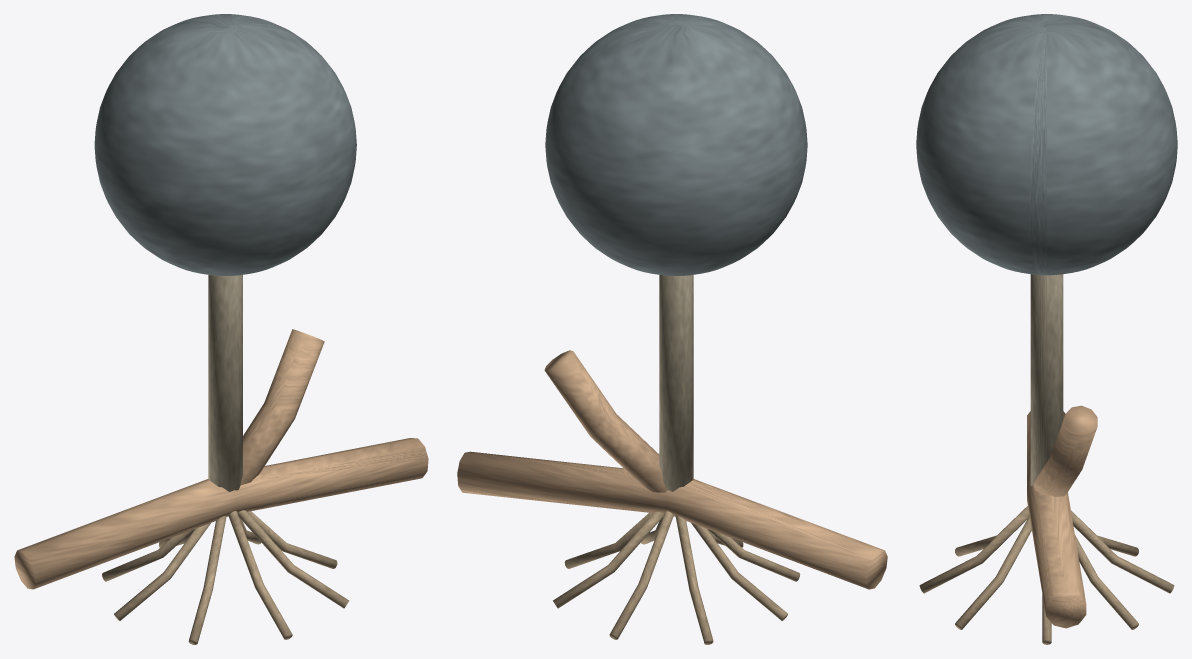
File: complete.glb
The picture shows the model from 3 angles, left to right: view 1: azimuth 30°, elevation 25°; view 2: azimuth 150°, elevation 25°; view 3: azimuth 270°, elevation 25°; orthographic projection.
Parts seen in each view (by area): view 1: esporangio_mesh, hifas_mesh, rizoides_mesh, conidioforo_mesh; view 2: esporangio_mesh, hifas_mesh, rizoides_mesh, conidioforo_mesh; view 3: esporangio_mesh, hifas_mesh, conidioforo_mesh, rizoides_mesh.
Part boxes in pixels (x1,y1,x2,y2): esporangio_mesh: (94,14,356,275); hifas_mesh: (14,329,428,589); rizoides_mesh: (102,510,349,644); conidioforo_mesh: (208,275,242,491); esporangio_mesh: (545,14,807,275); hifas_mesh: (457,350,887,589); rizoides_mesh: (553,511,800,644); conidioforo_mesh: (659,275,693,491); esporangio_mesh: (916,14,1177,275); hifas_mesh: (1027,405,1097,628); conidioforo_mesh: (1030,274,1063,485); rizoides_mesh: (919,506,1174,644).
Bounding box in the file's own units: 2.43 × 3.25 × 1.36.
6 materials, 6 textured.
